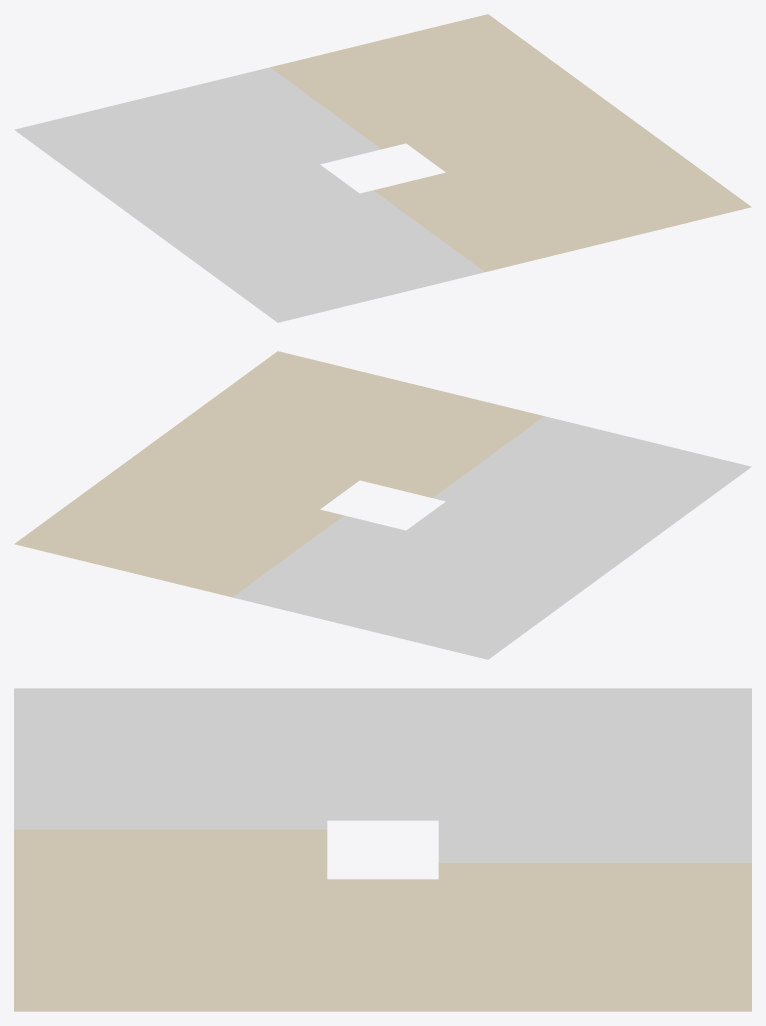
File: outer.fbx
3 views of the same model, one above another, from view 1: azimuth 30°, elevation 25°; view 2: azimuth 150°, elevation 25°; view 3: azimuth 270°, elevation 25° (orthographic). The views are drawn at different scales.
Parts seen in each view (by area): view 1: outer_land, outer_sea; view 2: outer_land, outer_sea; view 3: outer_land, outer_sea.
Boxes of the visible parts, bbox=[...] form: outer_land: bbox=[270, 14, 751, 272]; outer_sea: bbox=[14, 67, 484, 322]; outer_land: bbox=[14, 351, 544, 597]; outer_sea: bbox=[232, 416, 751, 659]; outer_land: bbox=[14, 829, 751, 1011]; outer_sea: bbox=[14, 688, 751, 862].
Bounding box in the file's own units: 220000 × 1 × 212000.
